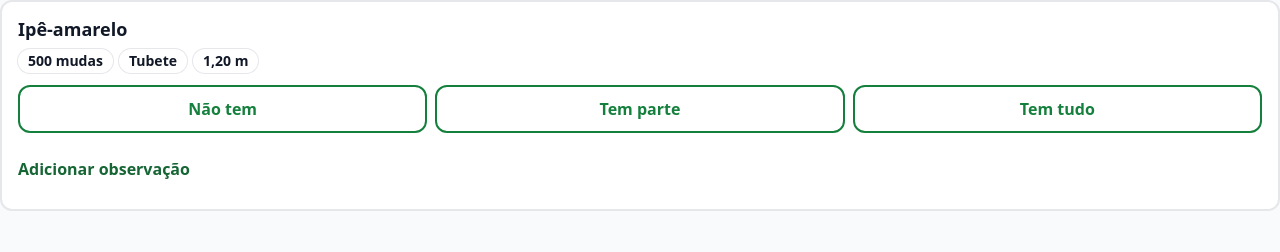
Test: VerificacaoItem, observação › fica recolhida até alguém precisar dela
Click the button "Adicionar observação" at coordinates (104, 168), box [18,144,190,192]
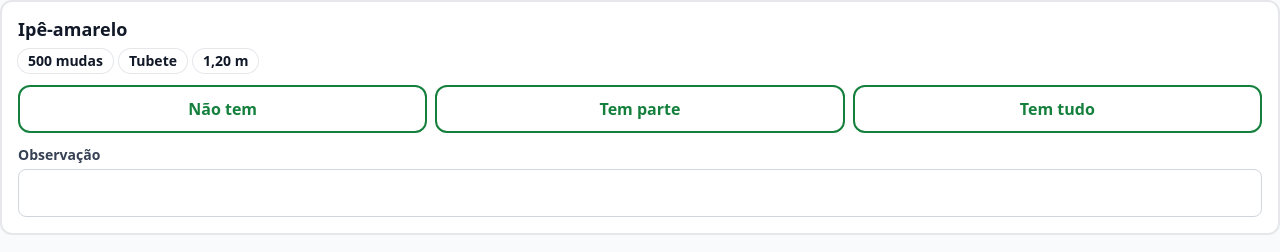
Expected: the field labelled "Observação" is shown, [18,168,1262,216]
